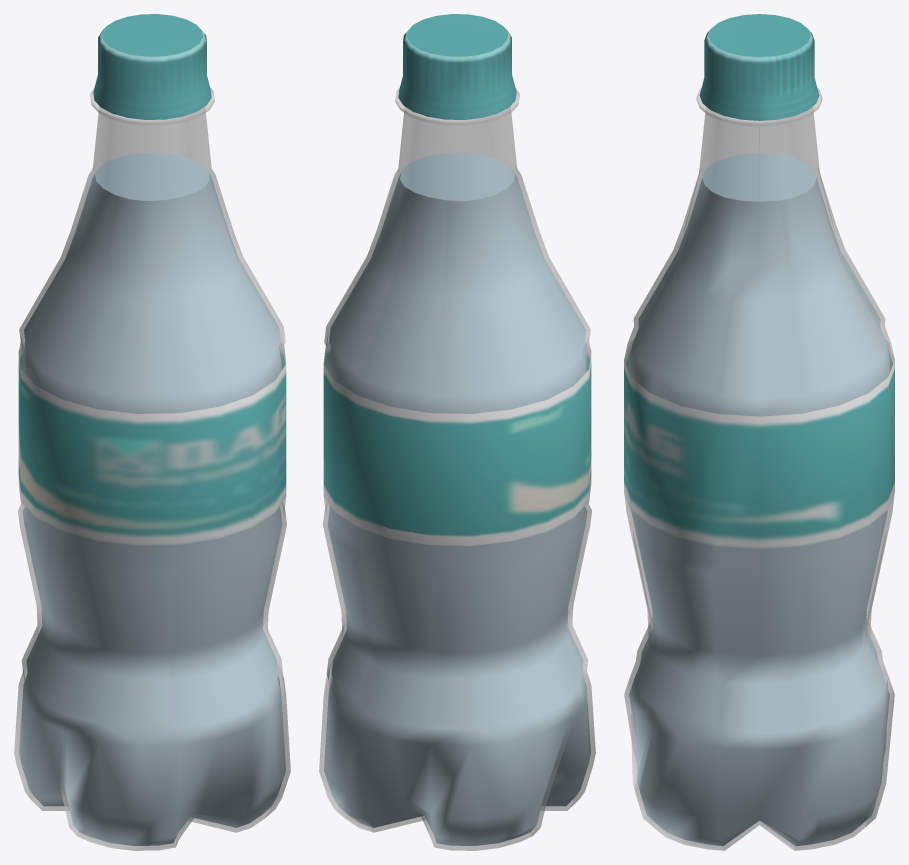
The model's file is petbottle_500ml_full_c02.fbx.
The picture shows the model from 3 angles, left to right: view 1: azimuth 30°, elevation 25°; view 2: azimuth 150°, elevation 25°; view 3: azimuth 270°, elevation 25°; orthographic projection.
Parts seen in each view (by area): view 1: petbottle_500ml_full_c01; view 2: petbottle_500ml_full_c01; view 3: petbottle_500ml_full_c01.
Boxes of the visible parts, bbox=[...] form: petbottle_500ml_full_c01: bbox=[14, 14, 290, 850]; petbottle_500ml_full_c01: bbox=[319, 14, 595, 850]; petbottle_500ml_full_c01: bbox=[624, 14, 894, 850].
Size of the model in its own units: 7.11 by 22.31 by 7.11.
4 materials, 2 textured.
